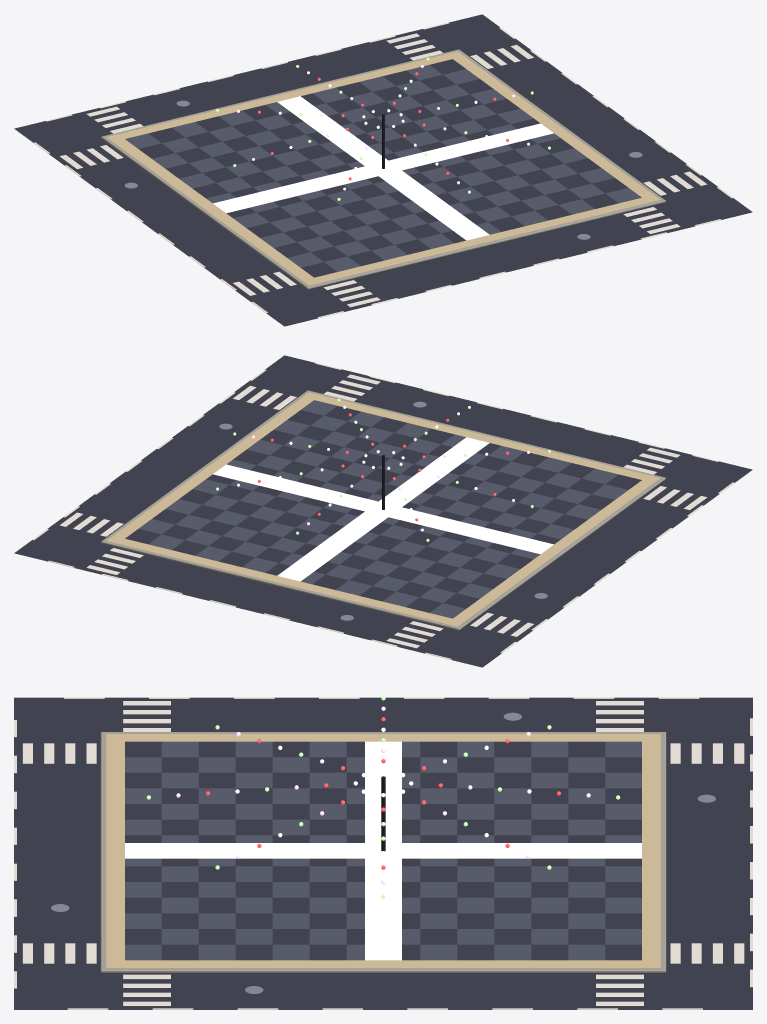
Rendered from tile_neon.glb.
3 renders of one model, top to bottom at view 1: azimuth 30°, elevation 25°; view 2: azimuth 150°, elevation 25°; view 3: azimuth 270°, elevation 25°, orthographic. The views are drawn at different scales.
Visible parts, largest first — view 1: tile_neon; view 2: tile_neon; view 3: tile_neon.
Part boxes in pixels (x1,y1,x2,y2): tile_neon: (14,14,752,326); tile_neon: (14,355,752,667); tile_neon: (14,696,752,1009).
Bounding box in the file's own units: 40 × 4.57 × 40.
Materials: 1 (1 with a texture image).
